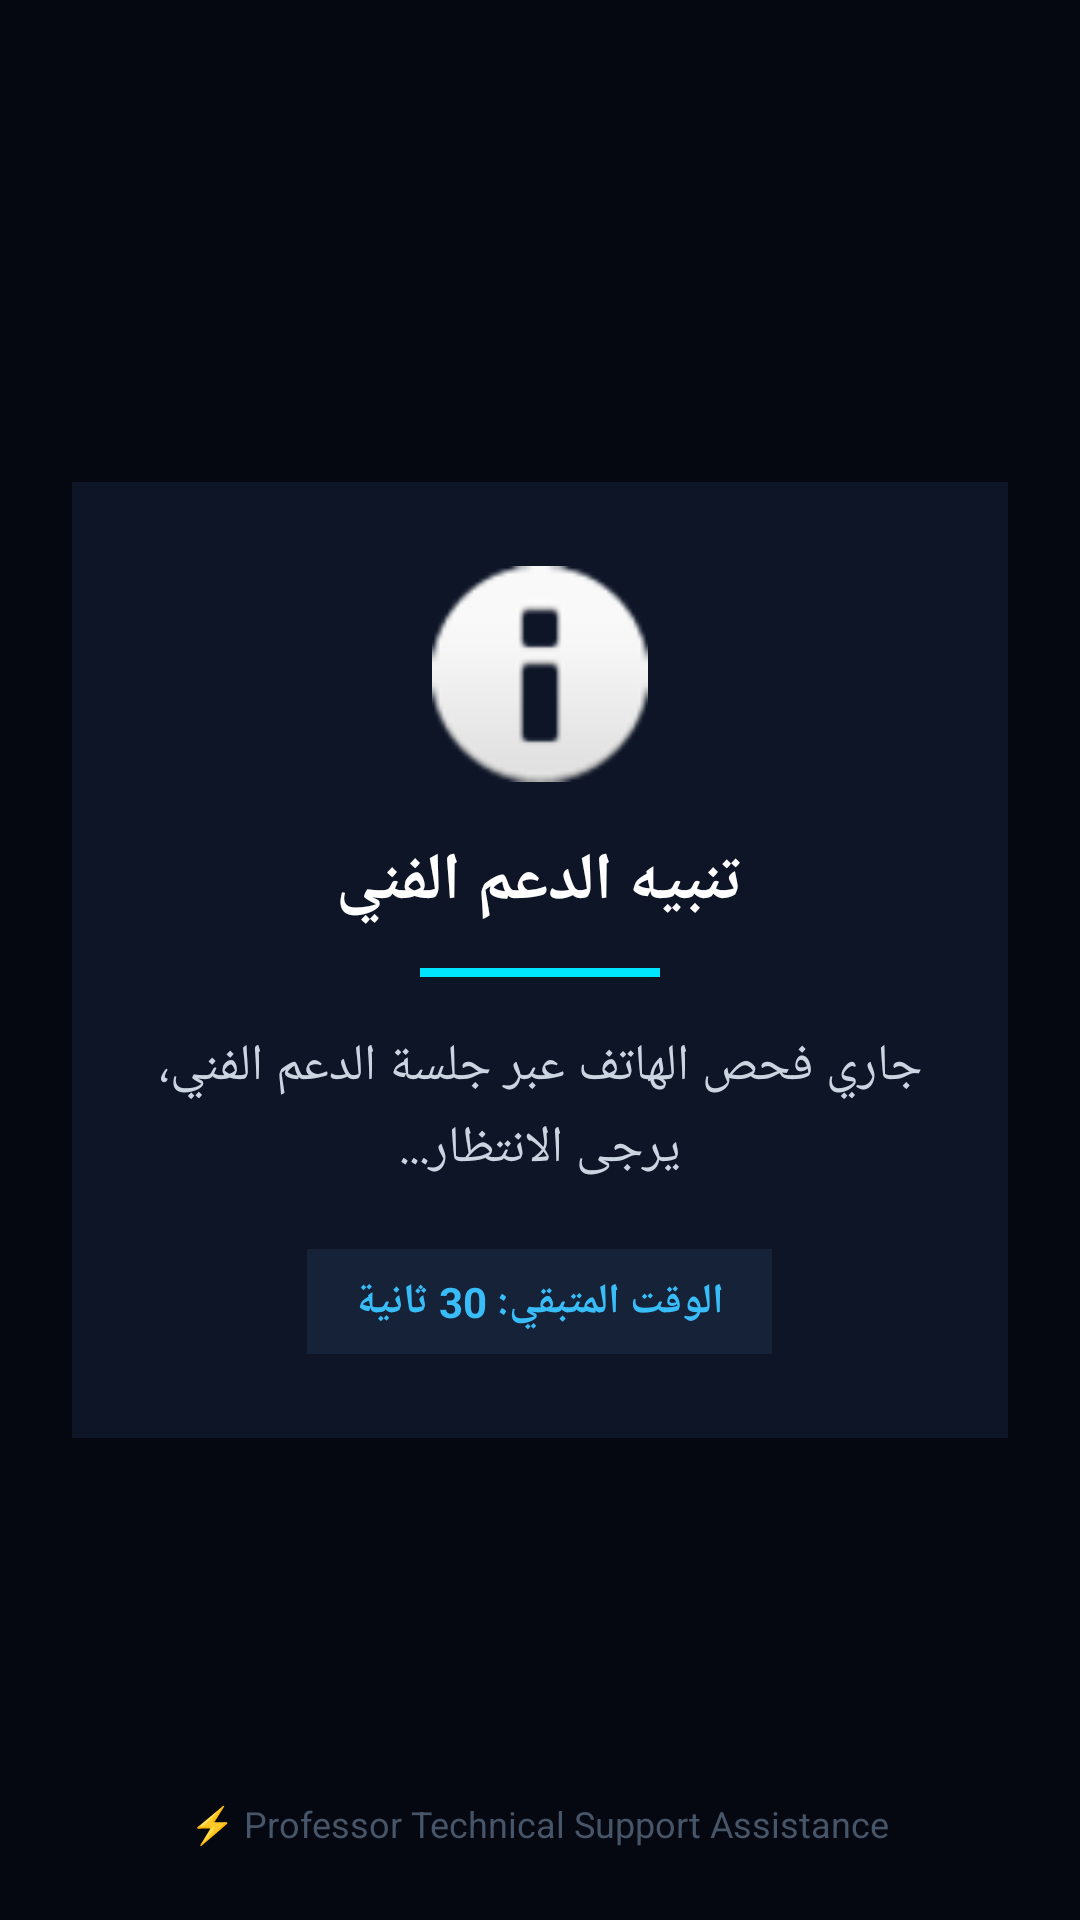

Icons on this 1080w x 1920h Android screen, each with its box as (x1,y1,x2,y2):
info: (432,566,648,782)
